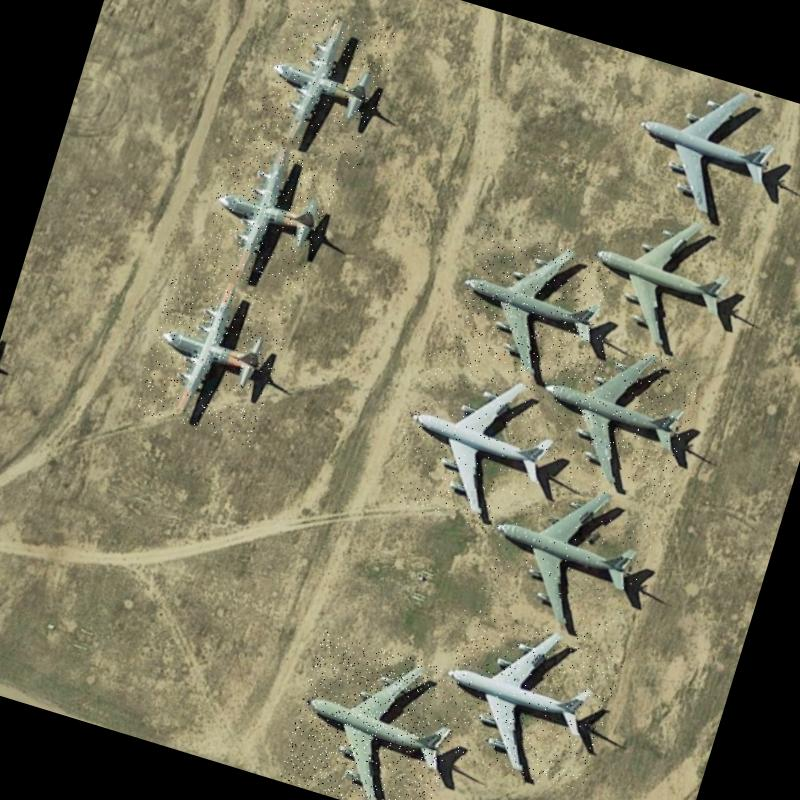A14: (422, 604, 626, 798), (382, 348, 574, 546), (470, 454, 665, 648), (609, 58, 800, 243), (526, 324, 709, 507), (278, 629, 472, 800), (575, 192, 748, 366), (446, 222, 615, 396)
A2: (131, 266, 296, 447), (247, 0, 402, 172), (195, 134, 344, 300)
